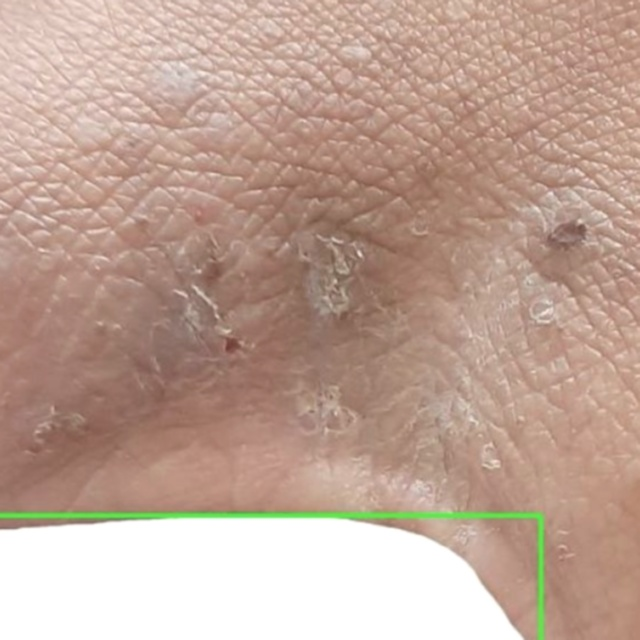Scabies: (0, 515, 540, 639)
